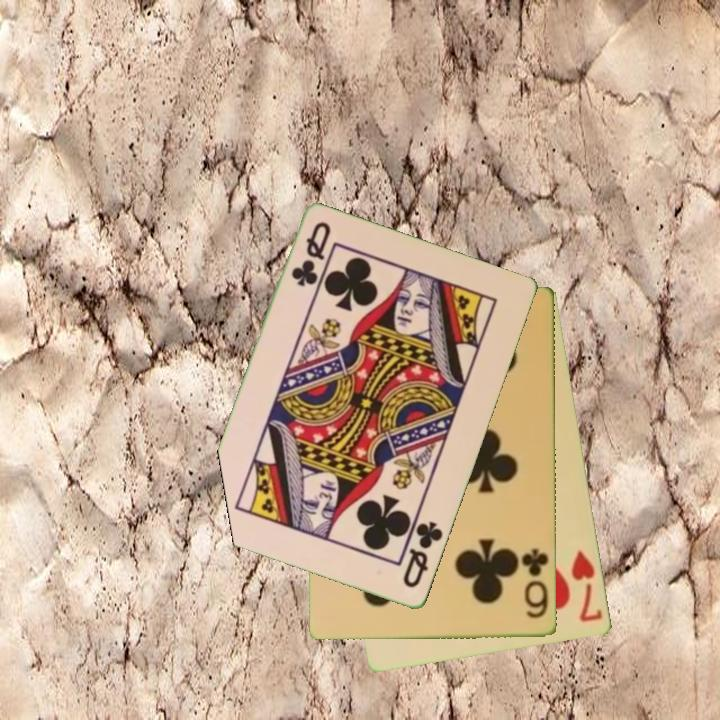6c: (519, 545, 552, 621)
7h: (568, 547, 606, 625)
Qc: (399, 517, 446, 592), (288, 218, 334, 290)
